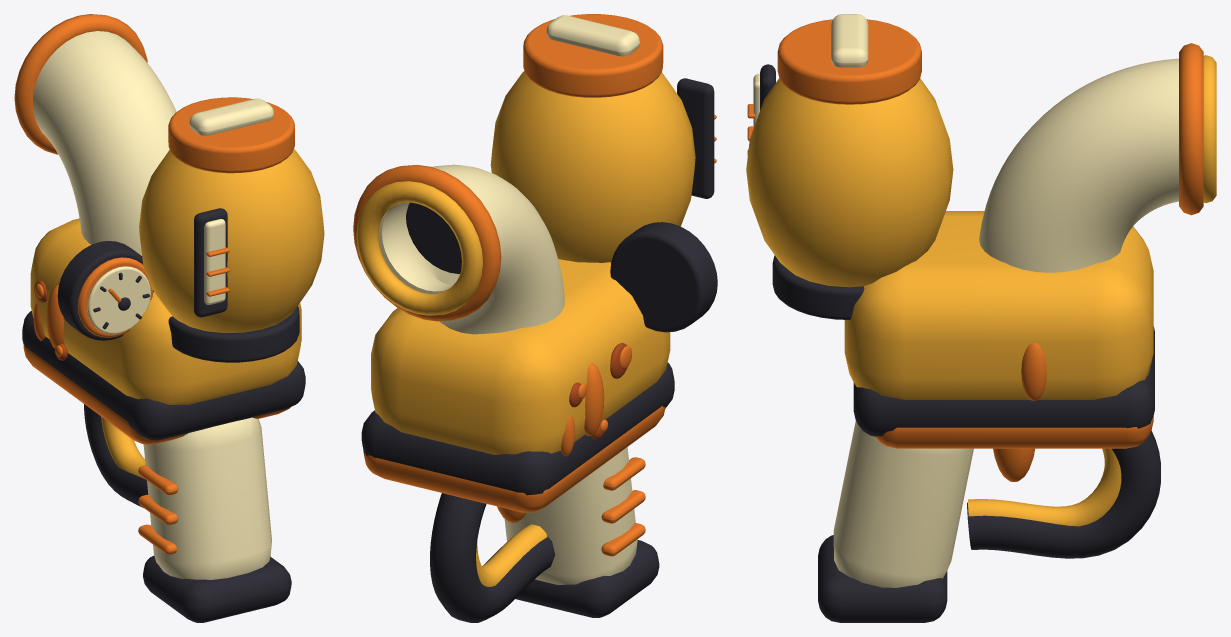
Rendered from cartoon-macaroni-blaster.glb.
3 renders of one model, left to right at view 1: azimuth 30°, elevation 25°; view 2: azimuth 150°, elevation 25°; view 3: azimuth 270°, elevation 25°, orthographic. The views are drawn at different scales.
Parts seen in each view (by area): view 1: Yellow cheese reservoir, Signature hollow elbow macaroni barrel, Oversized cream grip, Yellow cheese pod, Charcoal chassis outline, Reservoir orange cap, Grip heel charcoal, Orange muzzle collar, Cheese reservoir charcoal base, Cream pressure dial, Gauge charcoal bezel, Charcoal trigger guard (+10 smaller); view 2: Yellow cheese pod, Yellow cheese reservoir, Signature hollow elbow macaroni barrel, Charcoal chassis outline, Gauge charcoal bezel, Oversized cream grip, Charcoal trigger guard, Reservoir orange cap, Cream rolled pasta lip, Orange lower bumper, Orange muzzle collar, Grip heel charcoal (+8 smaller); view 3: Yellow cheese pod, Yellow cheese reservoir, Signature hollow elbow macaroni barrel, Oversized cream grip, Charcoal chassis outline, Charcoal trigger guard, Reservoir orange cap, Grip heel charcoal, Orange lower bumper, Orange muzzle collar, Cream trigger guard insert, Cheese reservoir charcoal base (+4 smaller).
Part boxes in pixels (x1,y1,x2,y2): Yellow cheese reservoir: [139, 149, 324, 333]; Signature hollow elbow macaroni barrel: [32, 31, 176, 253]; Oversized cream grip: [143, 417, 271, 579]; Yellow cheese pod: [30, 218, 301, 404]; Charcoal chassis outline: [22, 311, 305, 440]; Reservoir orange cap: [168, 97, 294, 173]; Grip heel charcoal: [143, 555, 291, 622]; Orange muzzle collar: [14, 14, 147, 154]; Cheese reservoir charcoal base: [168, 306, 299, 362]; Cream pressure dial: [87, 266, 150, 334]; Gauge charcoal bezel: [57, 241, 153, 340]; Charcoal trigger guard: [84, 404, 148, 507]; Yellow cheese pod: [371, 259, 670, 454]; Yellow cheese reservoir: [490, 71, 695, 262]; Signature hollow elbow macaroni barrel: [378, 164, 564, 334]; Charcoal chassis outline: [361, 362, 674, 495]; Gauge charcoal bezel: [610, 222, 717, 332]; Oversized cream grip: [504, 447, 637, 584]; Charcoal trigger guard: [430, 493, 554, 622]; Reservoir orange cap: [523, 14, 663, 97]; Cream rolled pasta lip: [356, 181, 482, 315]; Orange lower bumper: [363, 406, 665, 512]; Orange muzzle collar: [353, 165, 501, 321]; Grip heel charcoal: [515, 540, 659, 617]; Yellow cheese pod: [844, 211, 1153, 399]; Yellow cheese reservoir: [746, 78, 953, 287]; Signature hollow elbow macaroni barrel: [979, 58, 1178, 272]; Oversized cream grip: [833, 420, 973, 587]; Charcoal chassis outline: [853, 326, 1154, 436]; Charcoal trigger guard: [967, 431, 1160, 558]; Reservoir orange cap: [777, 19, 921, 104]; Grip heel charcoal: [818, 535, 947, 622]; Orange lower bumper: [875, 417, 1153, 448]; Orange muzzle collar: [1179, 43, 1203, 215]; Cream trigger guard insert: [968, 448, 1121, 526]; Cheese reservoir charcoal base: [772, 255, 864, 319].
Bounding box in the file's own units: 0.6075 × 1.26 × 0.9449.
